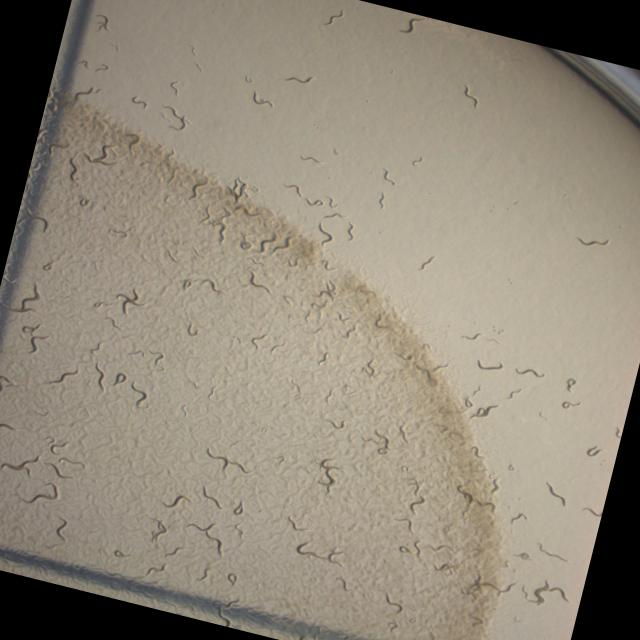filarid: (475, 355, 545, 384), (205, 448, 252, 477), (463, 384, 500, 419), (185, 522, 221, 556), (0, 284, 40, 313), (316, 458, 342, 496), (20, 323, 47, 353), (193, 484, 223, 509), (116, 289, 145, 314), (545, 483, 566, 506), (161, 494, 192, 509), (130, 382, 147, 409), (460, 332, 498, 344), (150, 518, 168, 543), (400, 17, 424, 33), (47, 370, 76, 383), (286, 516, 309, 531), (252, 91, 272, 106), (202, 279, 223, 293), (324, 10, 343, 25), (296, 541, 316, 555), (95, 363, 105, 391), (463, 86, 476, 107), (284, 76, 313, 84), (576, 238, 608, 245), (560, 400, 579, 411), (112, 372, 127, 385), (382, 169, 394, 184), (585, 445, 600, 457), (564, 377, 575, 393), (323, 552, 338, 563), (231, 501, 242, 515), (506, 388, 520, 399), (89, 342, 100, 355), (152, 352, 163, 364), (378, 192, 385, 208), (109, 319, 120, 329), (301, 156, 318, 162), (0, 375, 7, 389), (411, 157, 421, 166), (187, 326, 196, 335), (200, 517, 208, 523), (333, 149, 338, 155)
